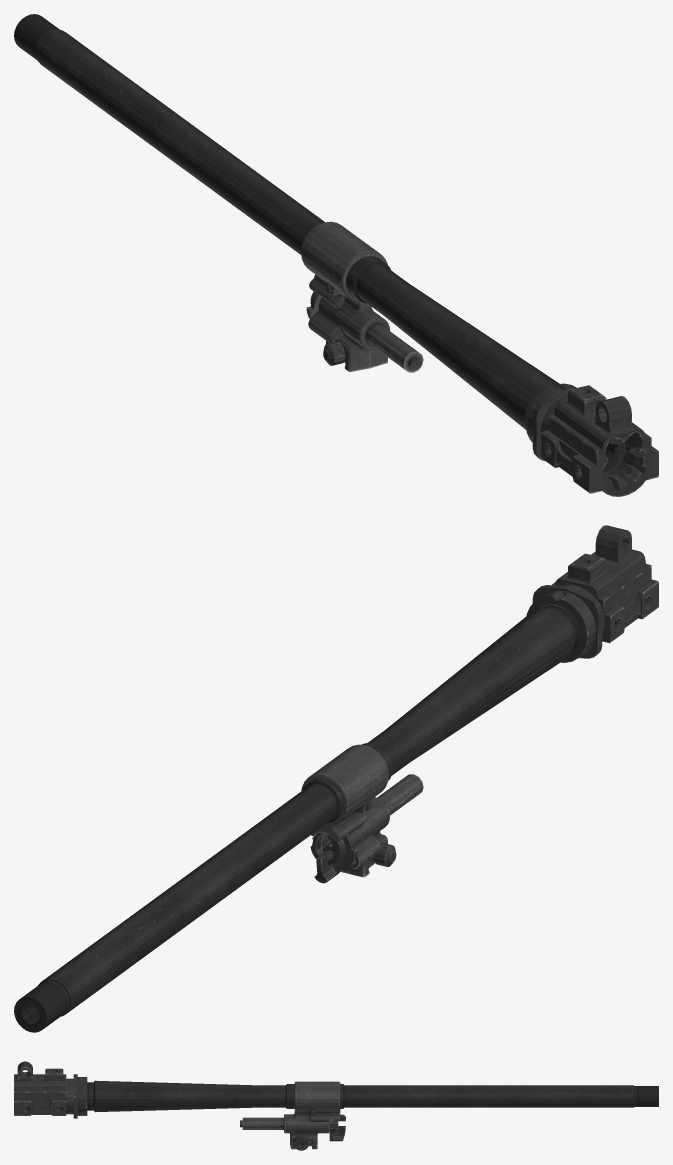
3 renders of one model, top to bottom at view 1: azimuth 30°, elevation 25°; view 2: azimuth 150°, elevation 25°; view 3: azimuth 270°, elevation 25°, orthographic. The views are drawn at different scales.
Visible parts, largest first — view 1: TW_6183b084a112697a4b3a6e6c_PZ_Import; view 2: TW_6183b084a112697a4b3a6e6c_PZ_Import; view 3: TW_6183b084a112697a4b3a6e6c_PZ_Import.
Part boxes in pixels (bbox=[...]): TW_6183b084a112697a4b3a6e6c_PZ_Import: bbox=[14, 14, 658, 496]; TW_6183b084a112697a4b3a6e6c_PZ_Import: bbox=[14, 525, 658, 1032]; TW_6183b084a112697a4b3a6e6c_PZ_Import: bbox=[14, 1061, 658, 1150].
Size of the model in its own units: 0.0187 by 0.2761 by 0.0378.
1 material, 1 textured.
